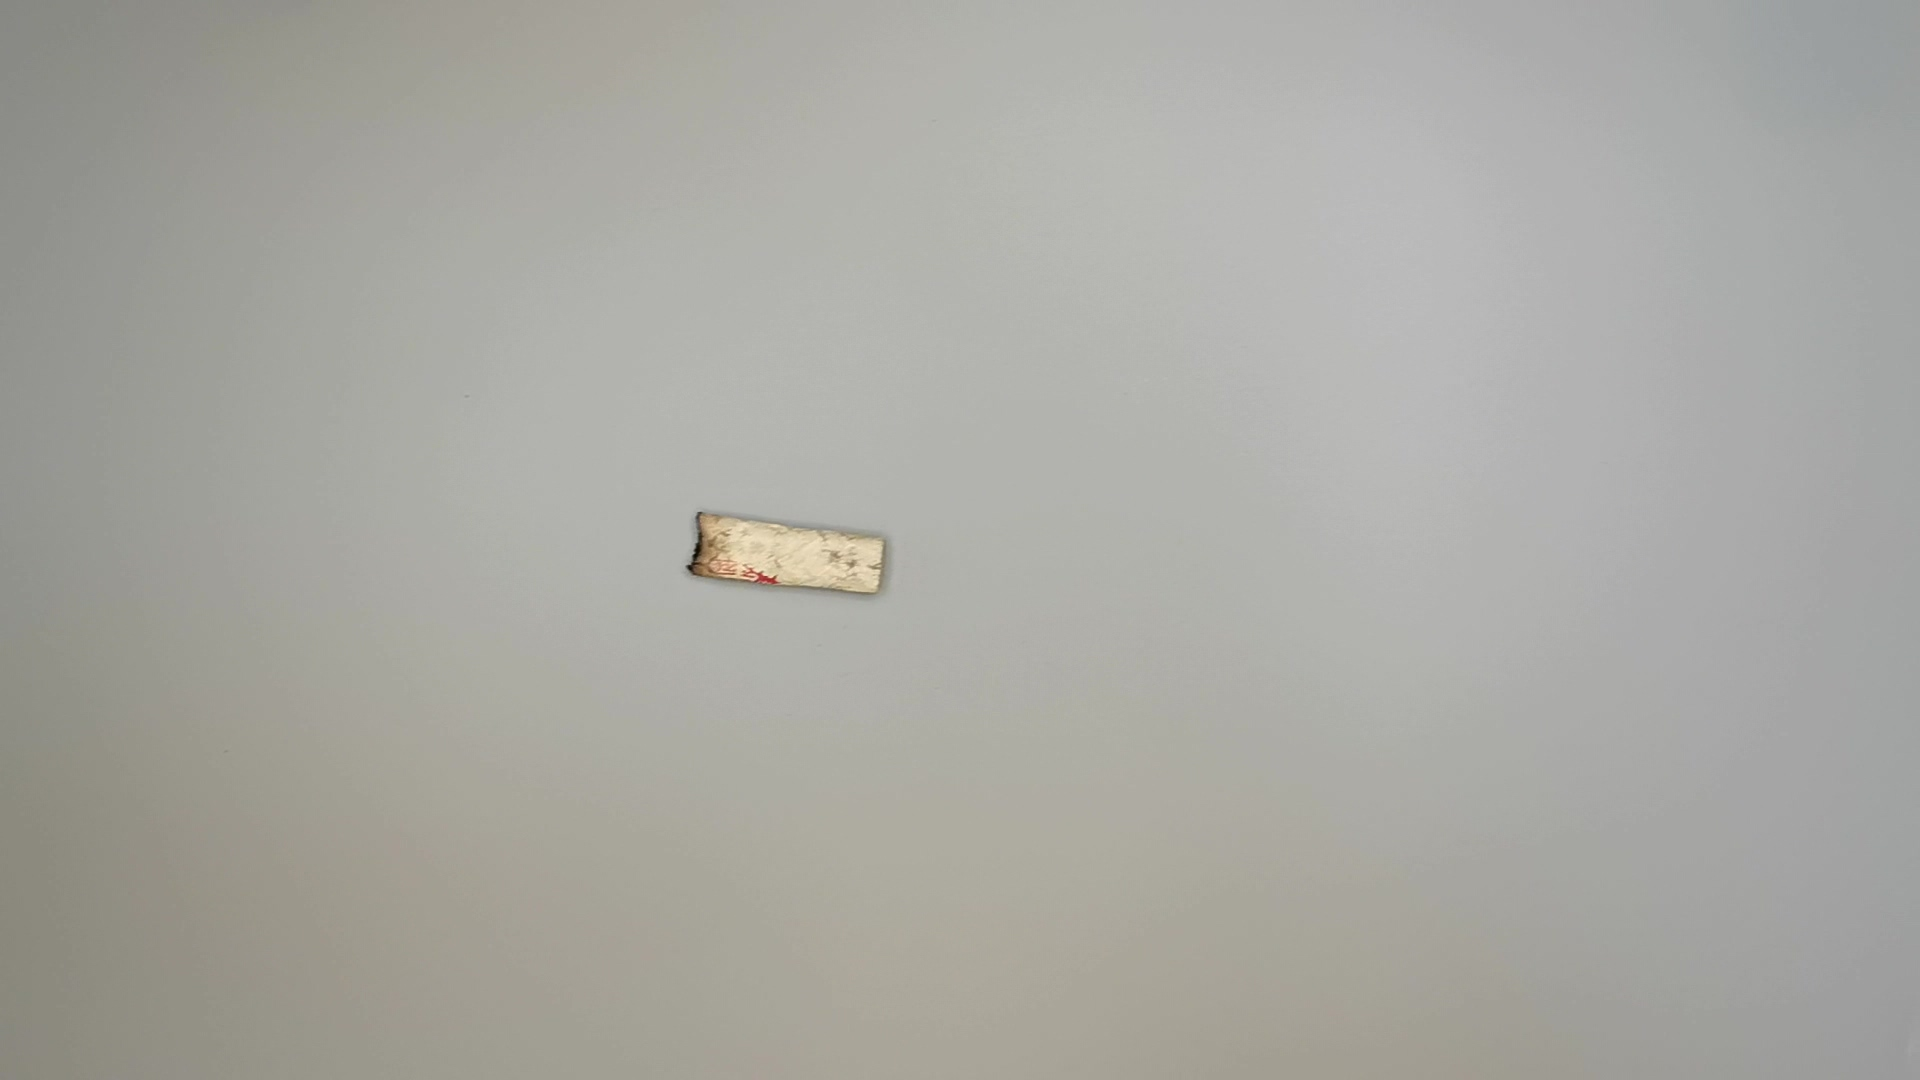cigarette: (666, 500, 903, 607)
